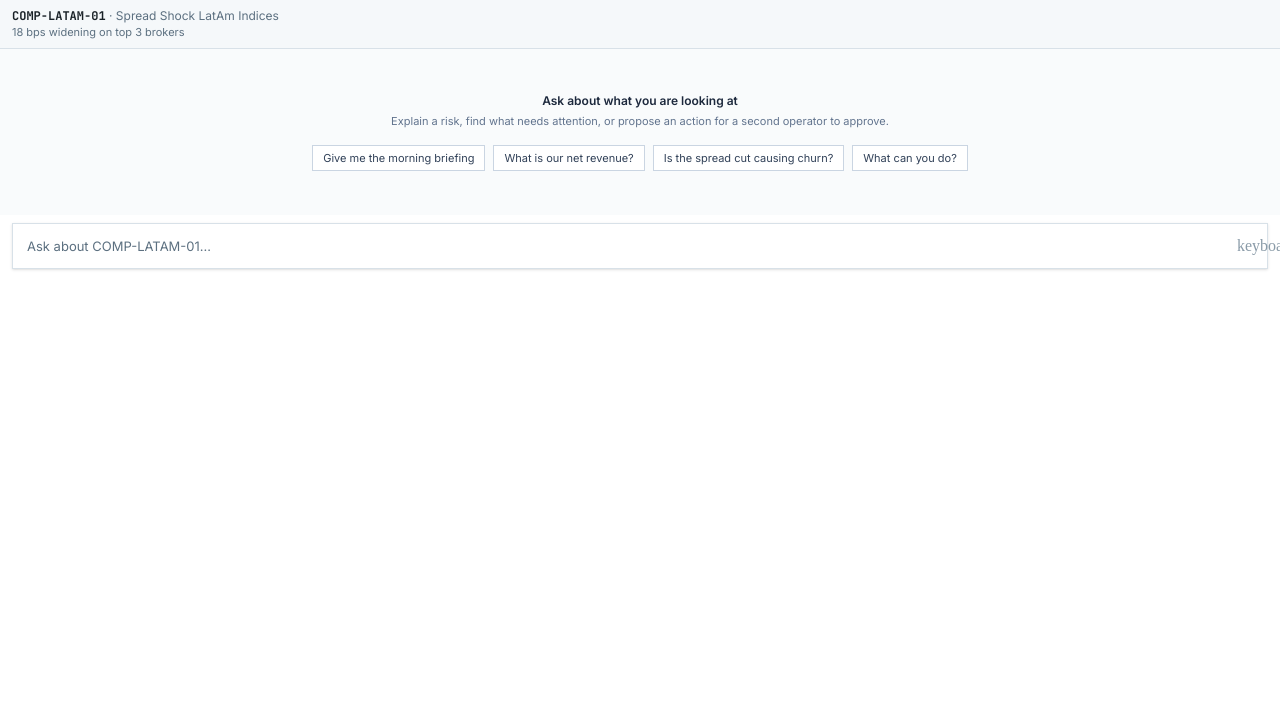
Scenario: a proposal from the assistant › is offered for staging and says nothing is signed or sent yet
Type "Hold the withdrawal" into the text box named "Ask the copilot". click: (621, 246)
box: [13,224,1229,268]
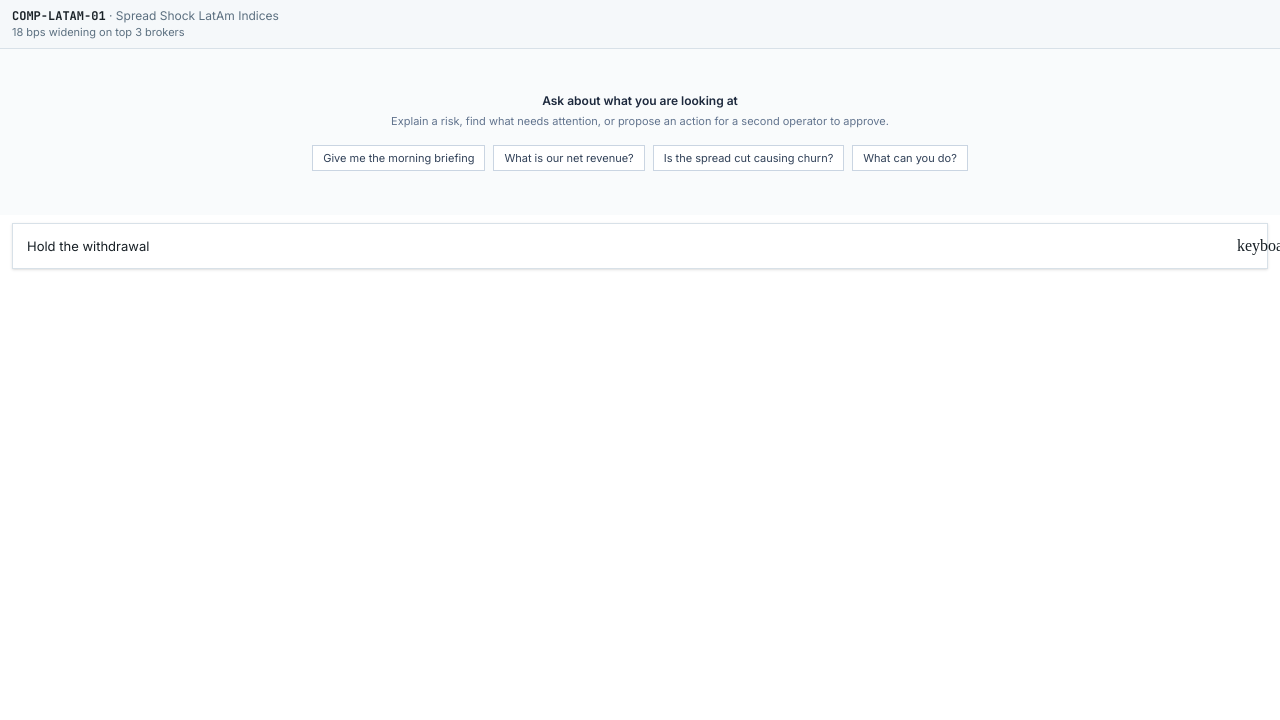
Submit the form named "Ask the copilot", box [0,215,1279,281]
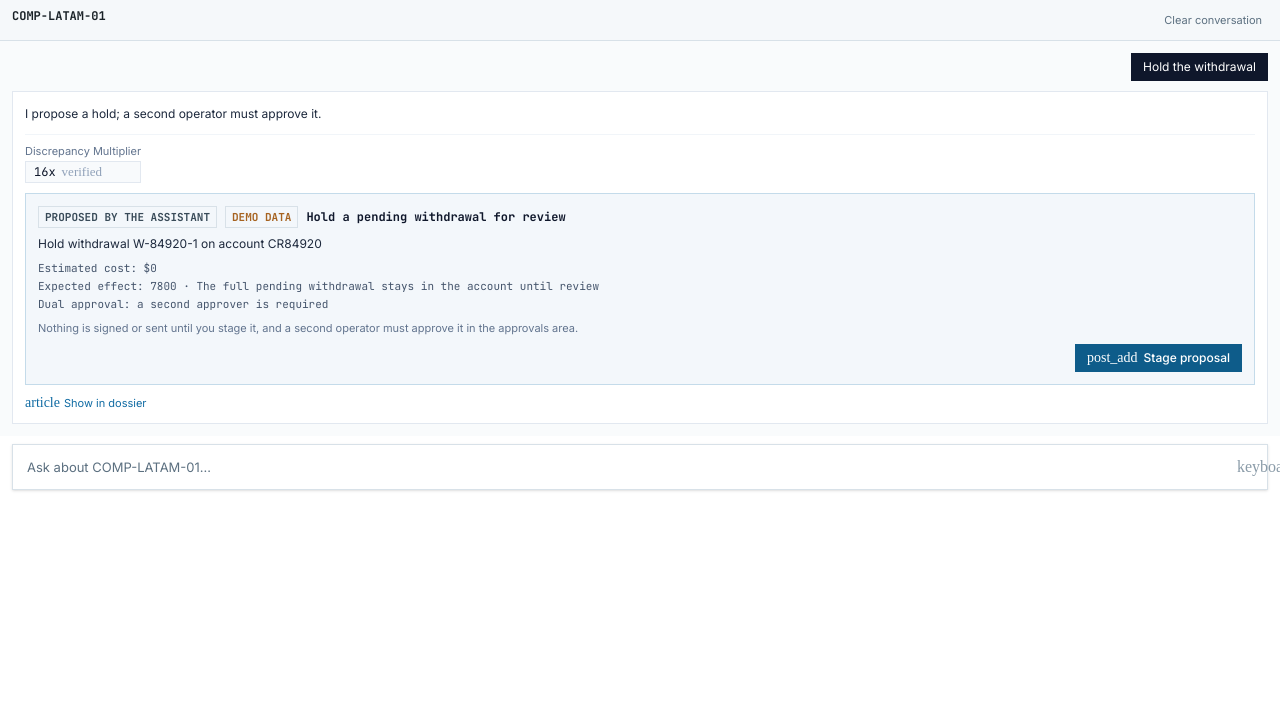
Now the text "Hold withdrawal W-84920-1 on account CR84920" is shown, box [38,236,322,250]
Now the text "Nothing is signed or sent" is shown, box [38,320,578,334]
Now the button "Stage proposal" is enabled, box [1075,344,1242,372]
